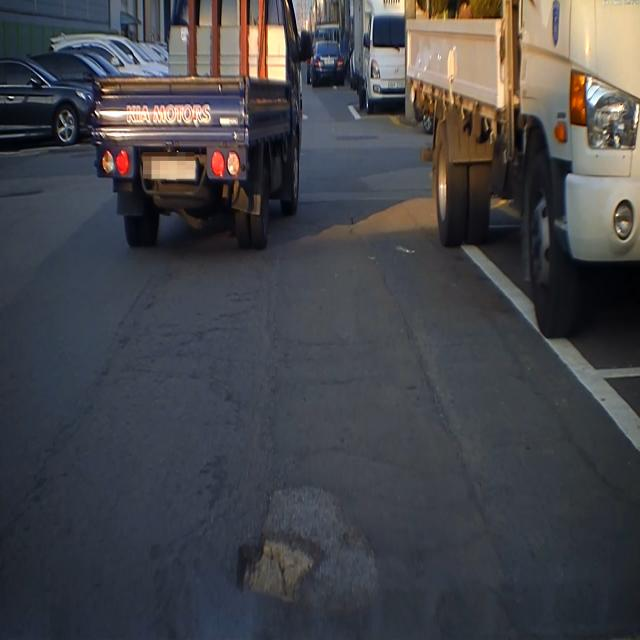Pothole: (227, 478, 388, 640)
